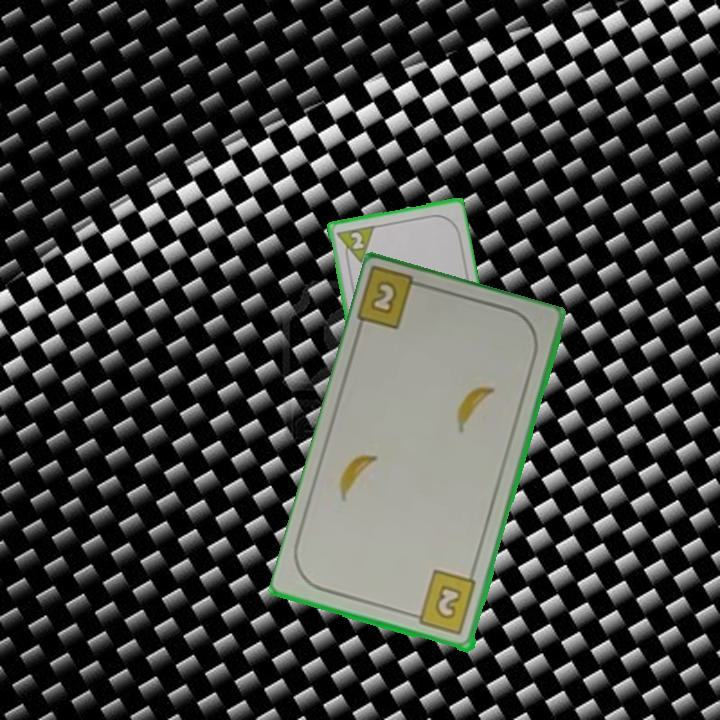2b: (355, 266, 433, 333), (407, 567, 480, 638)
2p: (332, 222, 376, 268)
